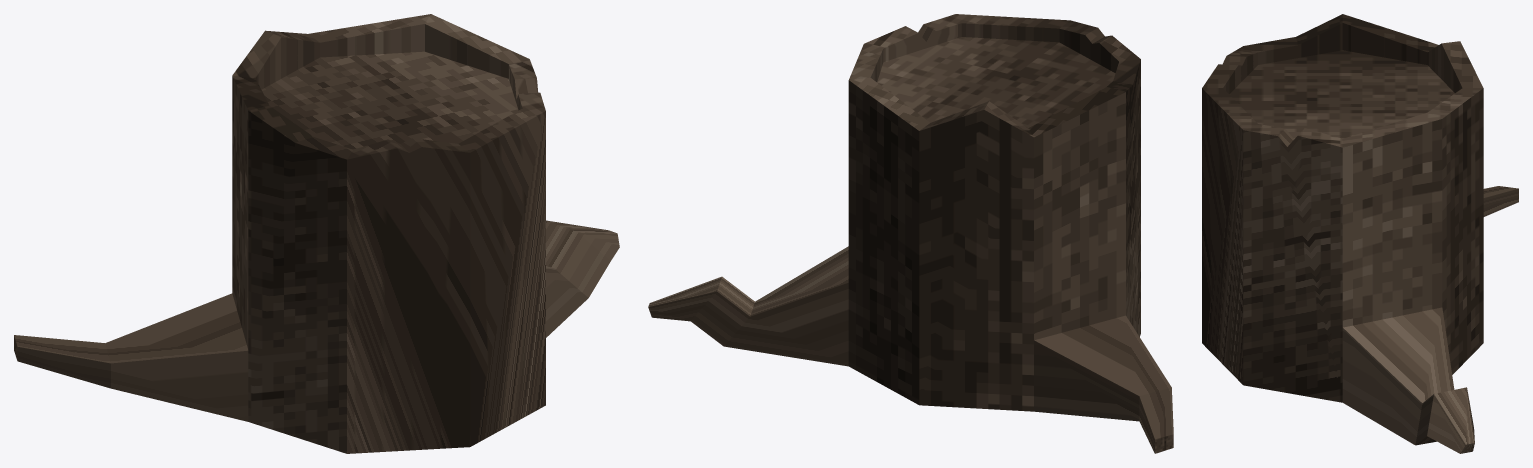
File: TroncoNoChao.fbx
3 renders of one model, left to right at view 1: azimuth 30°, elevation 25°; view 2: azimuth 150°, elevation 25°; view 3: azimuth 270°, elevation 25°, orthographic. The views are drawn at different scales.
Visible parts, largest first — view 1: Cylinder; view 2: Cylinder; view 3: Cylinder.
Boxes of the visible parts, bbox=[...] form: Cylinder: bbox=[14, 14, 619, 453]; Cylinder: bbox=[648, 14, 1173, 453]; Cylinder: bbox=[1202, 14, 1518, 453].
Size of the model in its own units: 413 by 218 by 225.
